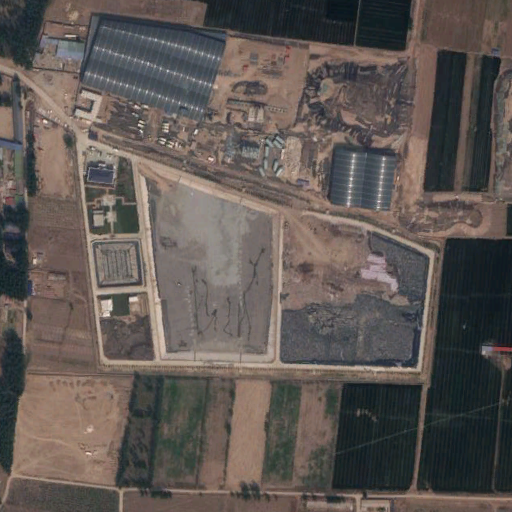lf: (136, 166, 436, 366)
